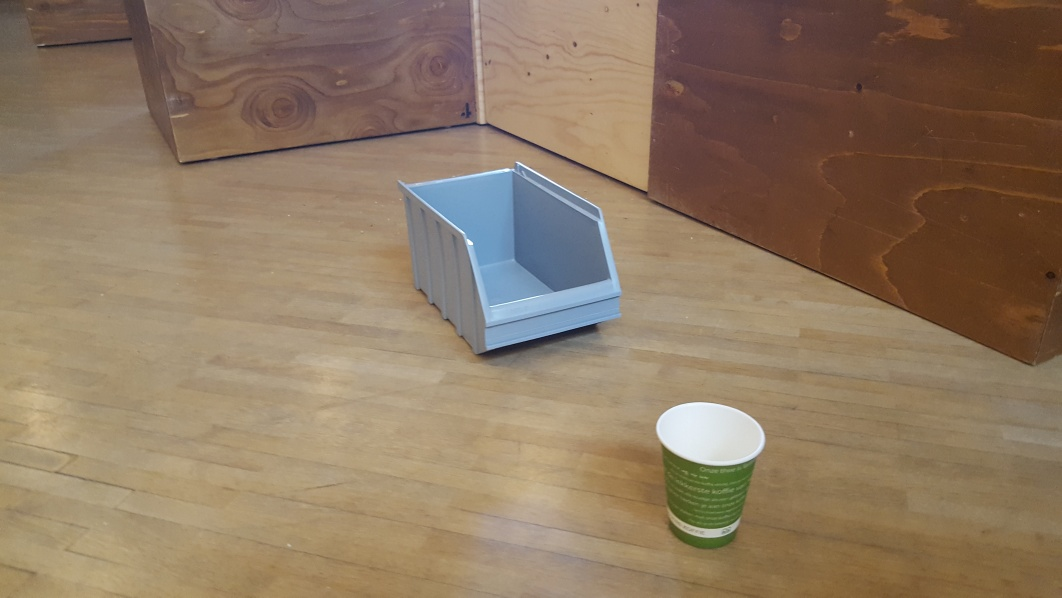cup: (654, 399, 767, 554)
tray: (399, 162, 627, 356)
